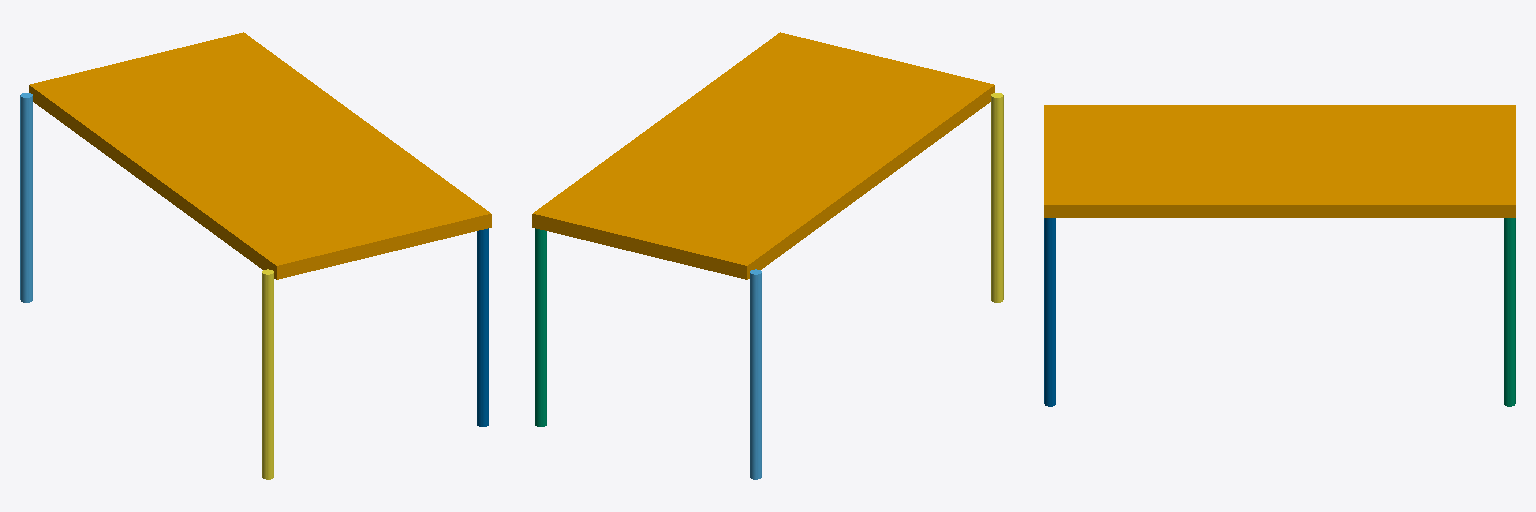
URDF robot description (table):
<?xml version="1.0" ?>
<!-- =================================================================================== -->
<!-- |    This document was autogenerated by xacro from /opt/ros/fuerte/stacks/simulator_gazebo/gazebo_worlds/objects/table.urdf.xacro | -->
<!-- |    EDITING THIS FILE BY HAND IS NOT RECOMMENDED                                 | -->
<!-- =================================================================================== -->
<robot name="table" xmlns:body="http://playerstage.sourceforge.net/gazebo/xmlschema/#body" xmlns:controller="http://playerstage.sourceforge.net/gazebo/xmlschema/#controller" xmlns:gazebo="http://playerstage.sourceforge.net/gazebo/xmlschema/#gz" xmlns:geom="http://playerstage.sourceforge.net/gazebo/xmlschema/#geom" xmlns:interface="http://playerstage.sourceforge.net/gazebo/xmlschema/#interface" xmlns:joint="http://playerstage.sourceforge.net/gazebo/xmlschema/#joint" xmlns:model="http://playerstage.sourceforge.net/gazebo/xmlschema/#model" xmlns:physics="http://playerstage.sourceforge.net/gazebo/xmlschema/#physics" xmlns:renderable="http://playerstage.sourceforge.net/gazebo/xmlschema/#renderable" xmlns:rendering="http://playerstage.sourceforge.net/gazebo/xmlschema/#rendering" xmlns:sensor="http://playerstage.sourceforge.net/gazebo/xmlschema/#sensor" xmlns:xi="http://www.w3.org/2001/XInclude">
  <!-- tabletop height is .55+.01+.025=.585 -->
  <link name="table_top_link">
    <inertial>
      <mass value="1.0"/>
      <origin xyz="1.0 0.0 0.7310"/>
      <inertia ixx="1" ixy="0" ixz="0" iyy="1" iyz="0" izz="1"/>
    </inertial>
    <visual>
      <origin xyz="1.0 0.0 0.7310"/>
      <geometry>
        <box size="0.802 1.6 0.05"/>
      </geometry>
    </visual>
    <collision>
      <origin xyz="1.0 0.0 0.7310"/>
      <geometry>
        <box size="0.802 1.6 0.05"/>
      </geometry>
    </collision>
  </link>
  <gazebo reference="table_top_link">
    <material>Gazebo/Wood</material>
    <mu1>50.0</mu1>
    <mu2>50.0</mu2>
    <kp>1000000.0</kp>
    <kd>1.0</kd>
  </gazebo>
  <joint name="leg1_joint" type="fixed">
    <parent link="table_top_link"/>
    <origin rpy="0 0 0" xyz="0.579 0.780 0.731"/>
    <child link="leg1_link"/>
  </joint>
  <link name="leg1_link">
    <inertial>
      <mass value="1.0"/>
      <origin xyz="0 0 -0.3655"/>
      <inertia ixx="0.1" ixy="0" ixz="0" iyy="0.1" iyz="0" izz="0.01"/>
    </inertial>
    <visual>
      <origin rpy="0 0 0" xyz="0.0 0.0 -0.3655"/>
      <geometry>
        <cylinder length="0.731" radius="0.02"/>
      </geometry>
    </visual>
    <collision>
      <origin rpy="0.0 0.0 0.0" xyz="0.0 0.0 -0.3655"/>
      <geometry>
        <cylinder length="0.731" radius="0.02"/>
      </geometry>
    </collision>
  </link>
  <gazebo reference="leg1_link">
    <material>Gazebo/Red</material>
    <mu1>1000.0</mu1>
    <mu2>1000.0</mu2>
    <kp>10000000.0</kp>
    <kd>1.0</kd>
    <selfCollide>true</selfCollide>
  </gazebo>
  <joint name="leg2_joint" type="fixed">
    <parent link="table_top_link"/>
    <origin rpy="0 0 0" xyz="1.381 0.78 0.731"/>
    <child link="leg2_link"/>
  </joint>
  <link name="leg2_link">
    <inertial>
      <mass value="1.0"/>
      <origin xyz="0 0 -0.3655"/>
      <inertia ixx="0.1" ixy="0" ixz="0" iyy="0.1" iyz="0" izz="0.01"/>
    </inertial>
    <visual>
      <origin rpy="0 0 0" xyz="0.0 0.0 -0.3655"/>
      <geometry>
        <cylinder length="0.731" radius="0.02"/>
      </geometry>
    </visual>
    <collision>
      <origin rpy="0.0 0.0 0.0" xyz="0.0 0.0 -0.3655"/>
      <geometry>
        <cylinder length="0.731" radius="0.02"/>
      </geometry>
    </collision>
  </link>
  <gazebo reference="leg2_link">
    <material>Gazebo/Red</material>
    <mu1>1000.0</mu1>
    <mu2>1000.0</mu2>
    <kp>10000000.0</kp>
    <kd>1.0</kd>
    <selfCollide>true</selfCollide>
  </gazebo>
  <joint name="leg3_joint" type="fixed">
    <parent link="table_top_link"/>
    <origin rpy="0 0 0" xyz="0.579 -0.78 0.731"/>
    <child link="leg3_link"/>
  </joint>
  <link name="leg3_link">
    <inertial>
      <mass value="1.0"/>
      <origin xyz="0 0 -0.3655"/>
      <inertia ixx="0.1" ixy="0" ixz="0" iyy="0.1" iyz="0" izz="0.01"/>
    </inertial>
    <visual>
      <origin rpy="0 0 0" xyz="0.0 0.0 -0.3655"/>
      <geometry>
        <cylinder length="0.731" radius="0.02"/>
      </geometry>
    </visual>
    <collision>
      <origin rpy="0.0 0.0 0.0" xyz="0.0 0.0 -0.3655"/>
      <geometry>
        <cylinder length="0.731" radius="0.02"/>
      </geometry>
    </collision>
  </link>
  <gazebo reference="leg3_link">
    <material>Gazebo/Red</material>
    <mu1>1000.0</mu1>
    <mu2>1000.0</mu2>
    <kp>10000000.0</kp>
    <kd>1.0</kd>
    <selfCollide>true</selfCollide>
  </gazebo>
  <joint name="leg4_joint" type="fixed">
    <parent link="table_top_link"/>
    <origin rpy="0 0 0" xyz="1.381 -0.78 0.731"/>
    <child link="leg4_link"/>
  </joint>
  <link name="leg4_link">
    <inertial>
      <mass value="1.0"/>
      <origin xyz="0 0 -0.3655"/>
      <inertia ixx="0.1" ixy="0" ixz="0" iyy="0.1" iyz="0" izz="0.01"/>
    </inertial>
    <visual>
      <origin rpy="0 0 0" xyz="0.0 0.0 -0.3655"/>
      <geometry>
        <cylinder length="0.731" radius="0.02"/>
      </geometry>
    </visual>
    <collision>
      <origin rpy="0.0 0.0 0.0" xyz="0.0 0.0 -0.3655"/>
      <geometry>
        <cylinder length="0.731" radius="0.02"/>
      </geometry>
    </collision>
  </link>
  <gazebo reference="leg4_link">
    <material>Gazebo/Red</material>
    <mu1>1000.0</mu1>
    <mu2>1000.0</mu2>
    <kp>10000000.0</kp>
    <kd>1.0</kd>
    <selfCollide>true</selfCollide>
  </gazebo>
  <gazebo>
    <static>true</static>
    <canonicalBody>table_top_link</canonicalBody>
  </gazebo>
</robot>

--- Render facts (derived) ---
The picture shows the robot from 3 angles, left to right: view 1: azimuth 30°, elevation 25°; view 2: azimuth 150°, elevation 25°; view 3: azimuth 270°, elevation 25°; orthographic projection.
Robot: table — 5 links, 4 joints (4 fixed); root link table_top_link; default pose: every joint at zero.
Visible links, largest first — view 1: table_top_link, leg1_link, leg3_link, leg4_link; view 2: table_top_link, leg3_link, leg1_link, leg2_link; view 3: table_top_link, leg2_link, leg4_link.
Boxes of the visible links, <box> form: table_top_link: <box>29,32,491,279</box>; leg1_link: <box>20,93,32,302</box>; leg3_link: <box>262,269,273,479</box>; leg4_link: <box>477,228,488,426</box>; table_top_link: <box>532,32,994,279</box>; leg3_link: <box>991,93,1003,302</box>; leg1_link: <box>750,269,761,479</box>; leg2_link: <box>535,228,546,426</box>; table_top_link: <box>1044,105,1515,217</box>; leg2_link: <box>1504,218,1515,406</box>; leg4_link: <box>1044,218,1055,406</box>.
Size in the robot's own frame: 0.842 by 1.6 by 0.756 metres.
Geometry: primitives only (box / cylinder / sphere), no mesh files.